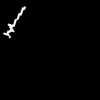double_crochet: (3, 7, 25, 37)
